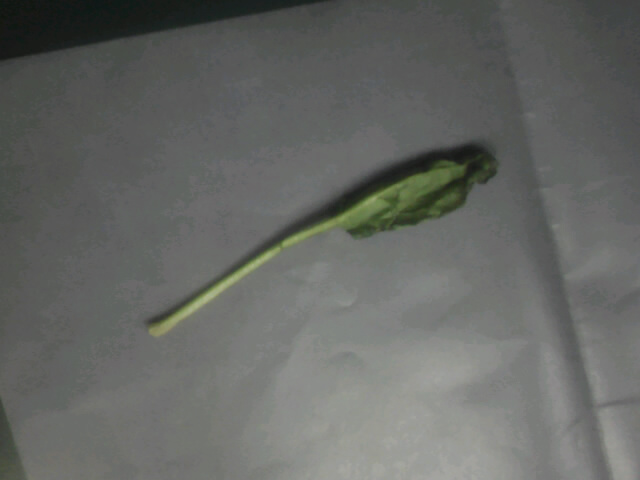yellow: (246, 140, 502, 258)
